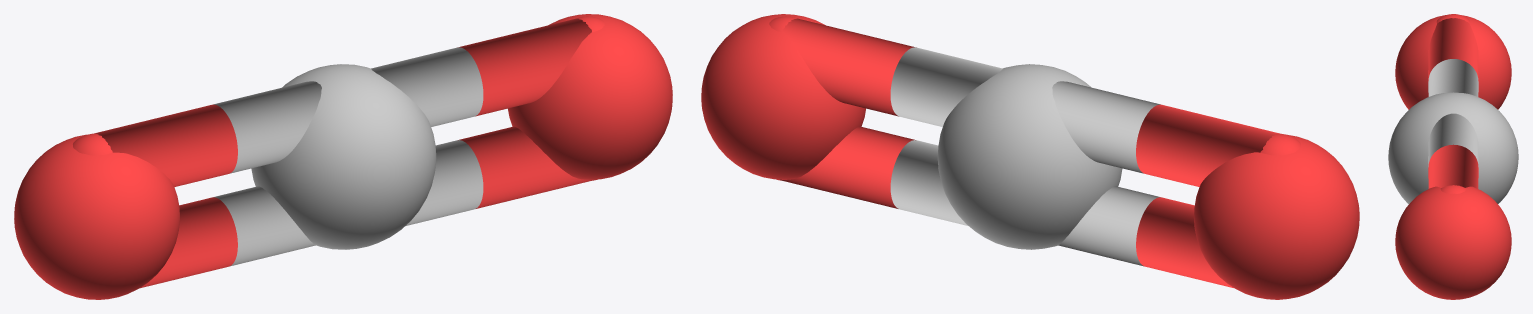
File: carbon_dioxide_molecule.glb
3 views of the same model, side by side, from view 1: azimuth 30°, elevation 25°; view 2: azimuth 150°, elevation 25°; view 3: azimuth 270°, elevation 25° (orthographic). The views are drawn at different scales.
Parts seen in each view (by area): view 1: Object_3, Object_2; view 2: Object_3, Object_2; view 3: Object_3, Object_2.
Boxes of the visible parts, x1,y1,x2,y2 form: Object_3: (14,14,672,299); Object_2: (213,47,483,266); Object_3: (701,14,1359,299); Object_2: (890,47,1160,266); Object_3: (1395,14,1511,299); Object_2: (1388,59,1518,204).
Size of the model in its own units: 3.09 by 0.782 by 0.782.
